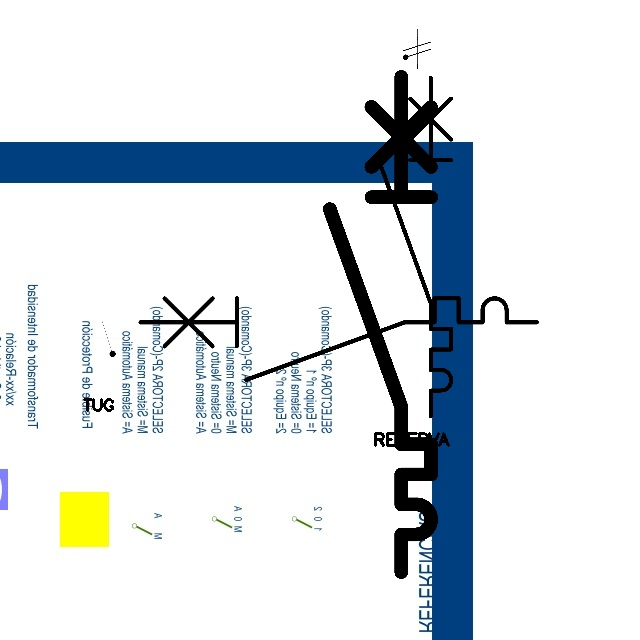interruptor_termomagnetico: (317, 64, 444, 585), (130, 288, 547, 390), (373, 69, 460, 425)
